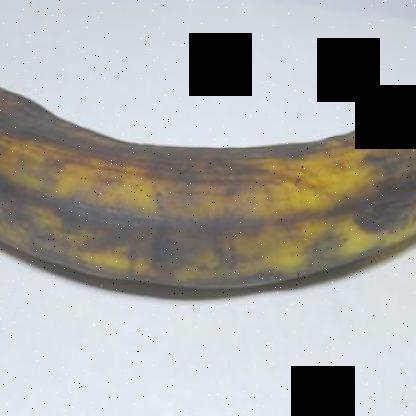overripe: (1, 73, 415, 336)
